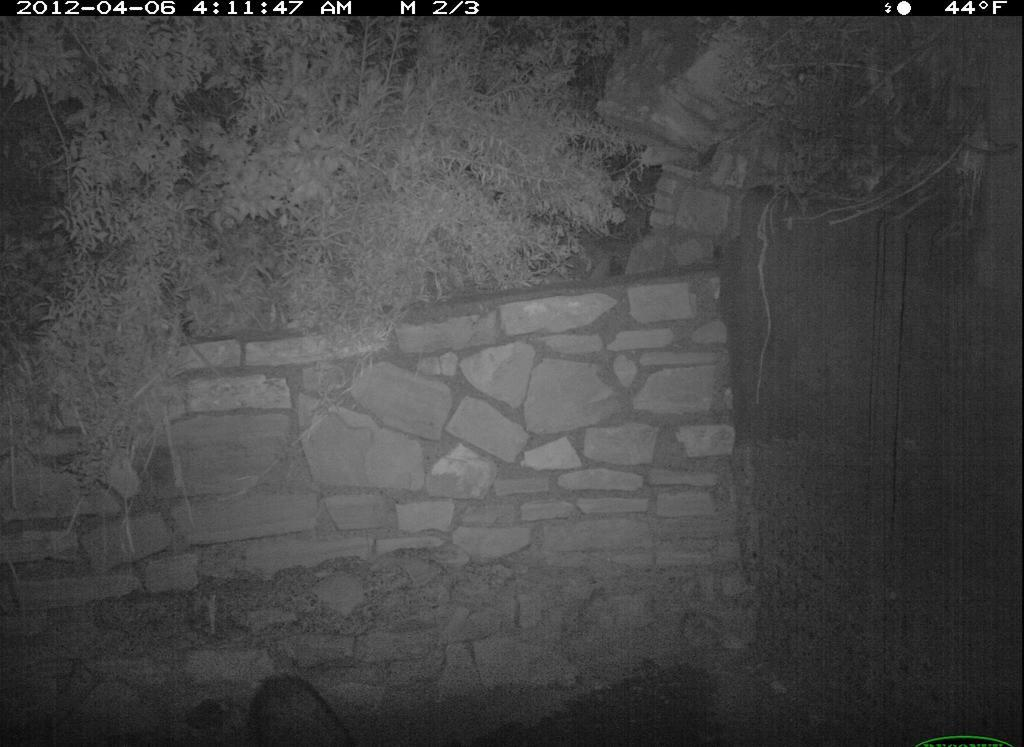raccoon: (236, 664, 387, 745)
